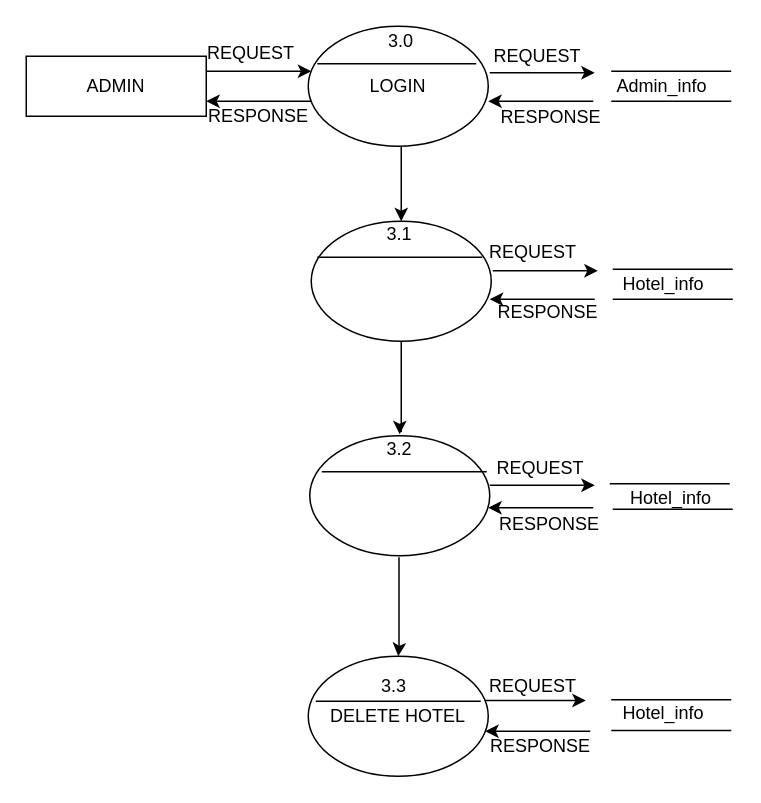
This 761x803 diagram has some shape labels left out. The shapes that lost their labels are listed below. From the top down, each one's box as (x1, y1, x2, y2) in pixels, then its label:
(310, 220, 491, 341): VIEW HOTEL
(308, 434, 490, 556): ADD HOTEL
